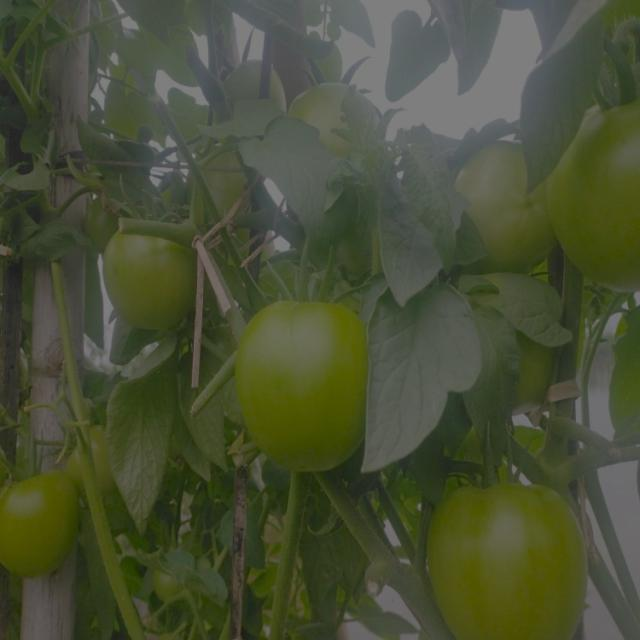tomato: (231, 283, 371, 473), (426, 483, 594, 640), (560, 75, 640, 279), (457, 133, 549, 273), (102, 218, 200, 327), (1, 460, 75, 585), (294, 79, 386, 163), (217, 51, 286, 122), (193, 149, 260, 218), (511, 335, 566, 414), (72, 420, 121, 498), (146, 549, 196, 607)
